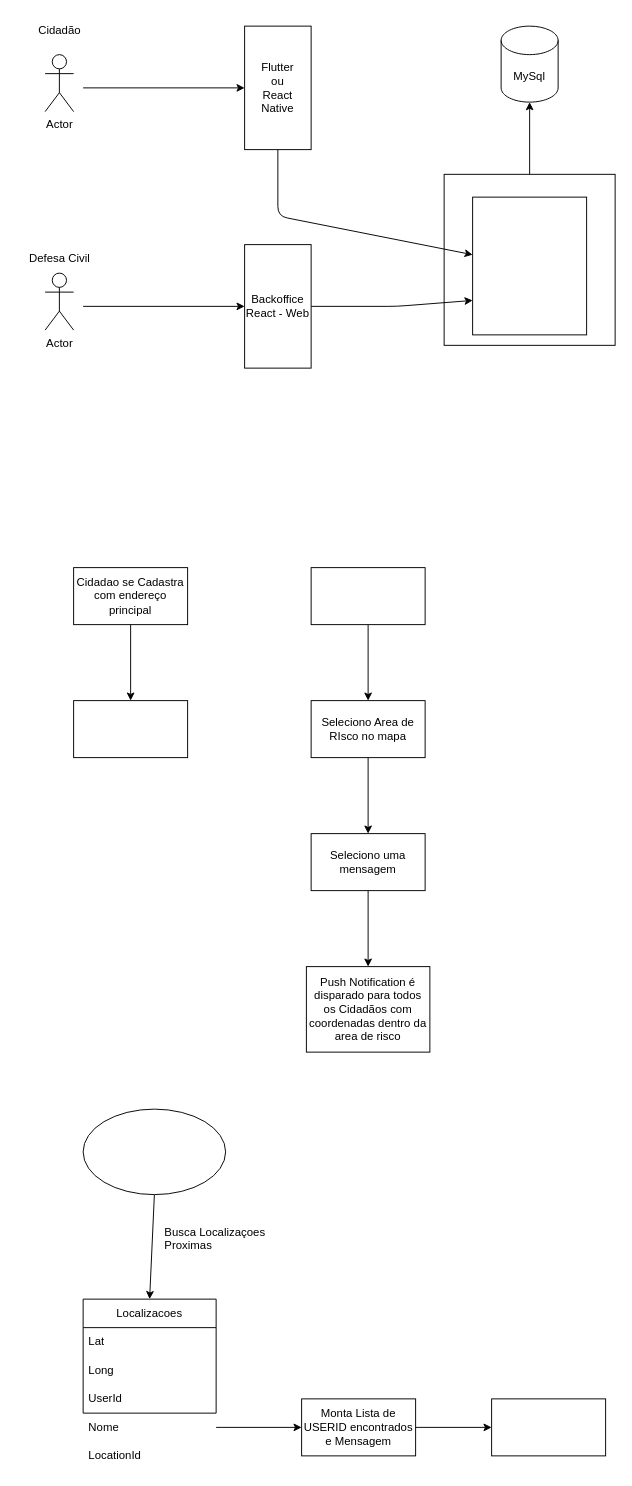
Some shapes in this 632 by 1486 pixel diagram are drawn without their labels. Here are the shapes that lost their labels. From the top down, the centre of each, then its label:
the point at 529,265: API
the point at 367,596: Acesso Backoffice
the point at 130,729: Aguarda Notificações
the point at 154,1151: Geofire
the point at 548,1427: Dispara Notificaçoes
